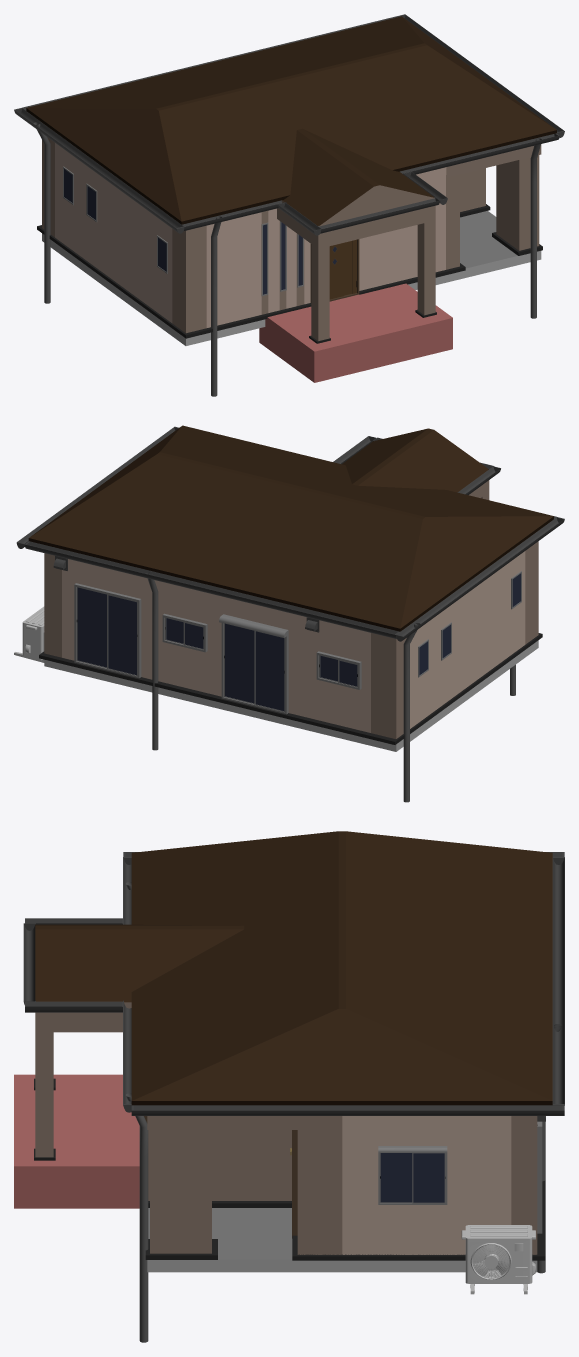
Rendered from house010.fbx.
3 views of the same model, one above another, from view 1: azimuth 30°, elevation 25°; view 2: azimuth 150°, elevation 25°; view 3: azimuth 270°, elevation 25° (orthographic). The views are drawn at different scales.
Parts seen in each view (by area): view 1: polySurface428; view 2: polySurface428; view 3: polySurface428.
Boxes of the visible parts, box(x1,y1,x2,y2) form: polySurface428: box(14, 14, 564, 396); polySurface428: box(14, 425, 564, 802); polySurface428: box(14, 831, 564, 1342).
Bounding box in the file's own units: 12.09 × 6.47 × 10.45.
